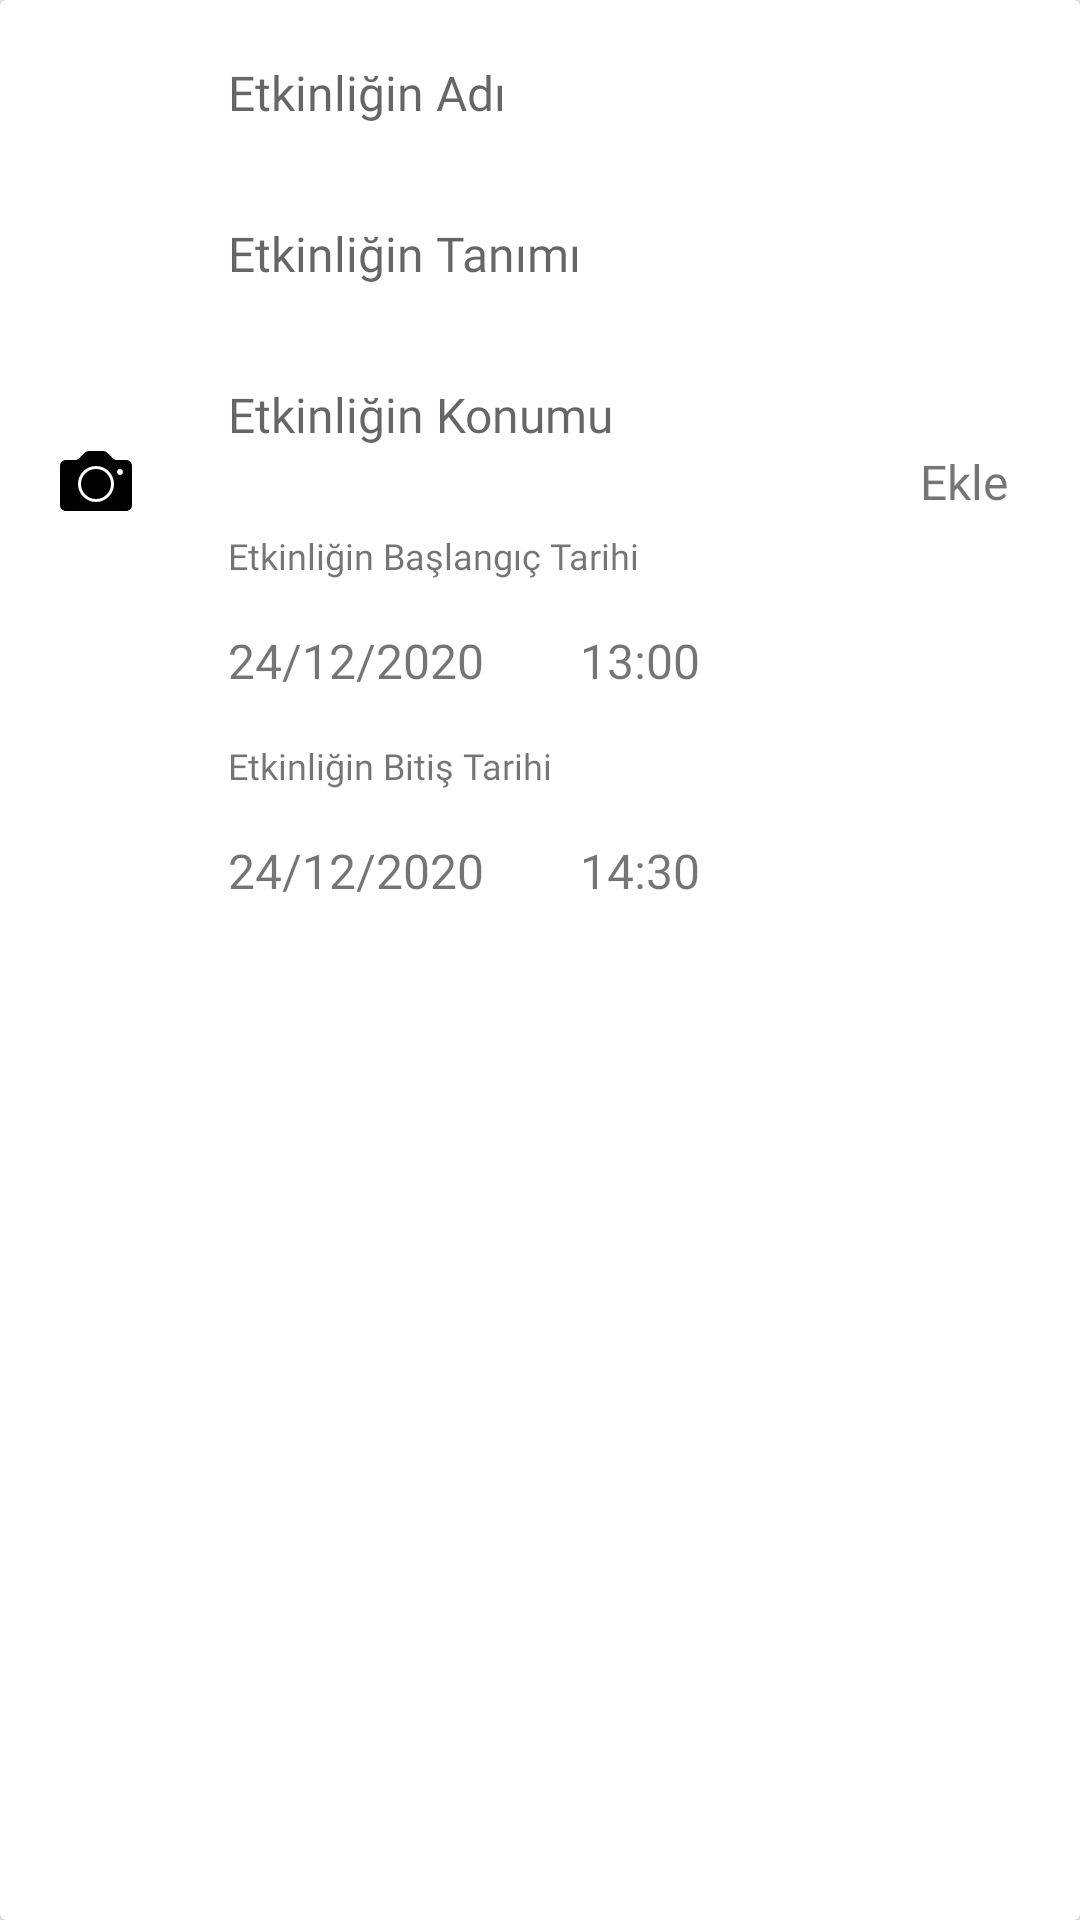

Point at icon controls on the screen. Image size 1080px x 1920px, points as [x,y].
camera: [96,481]
